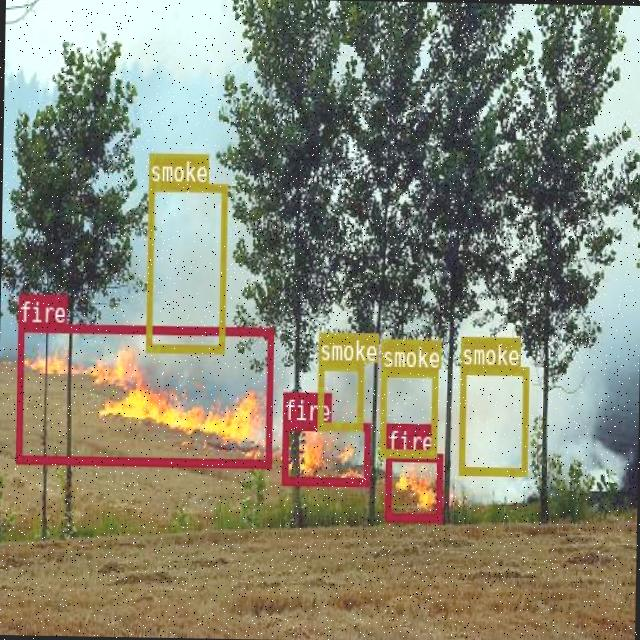fire: (15, 322, 272, 465), (280, 420, 368, 484), (384, 450, 441, 520)
smoke: (144, 182, 226, 351), (458, 366, 527, 474), (378, 366, 436, 455), (316, 361, 362, 429)
